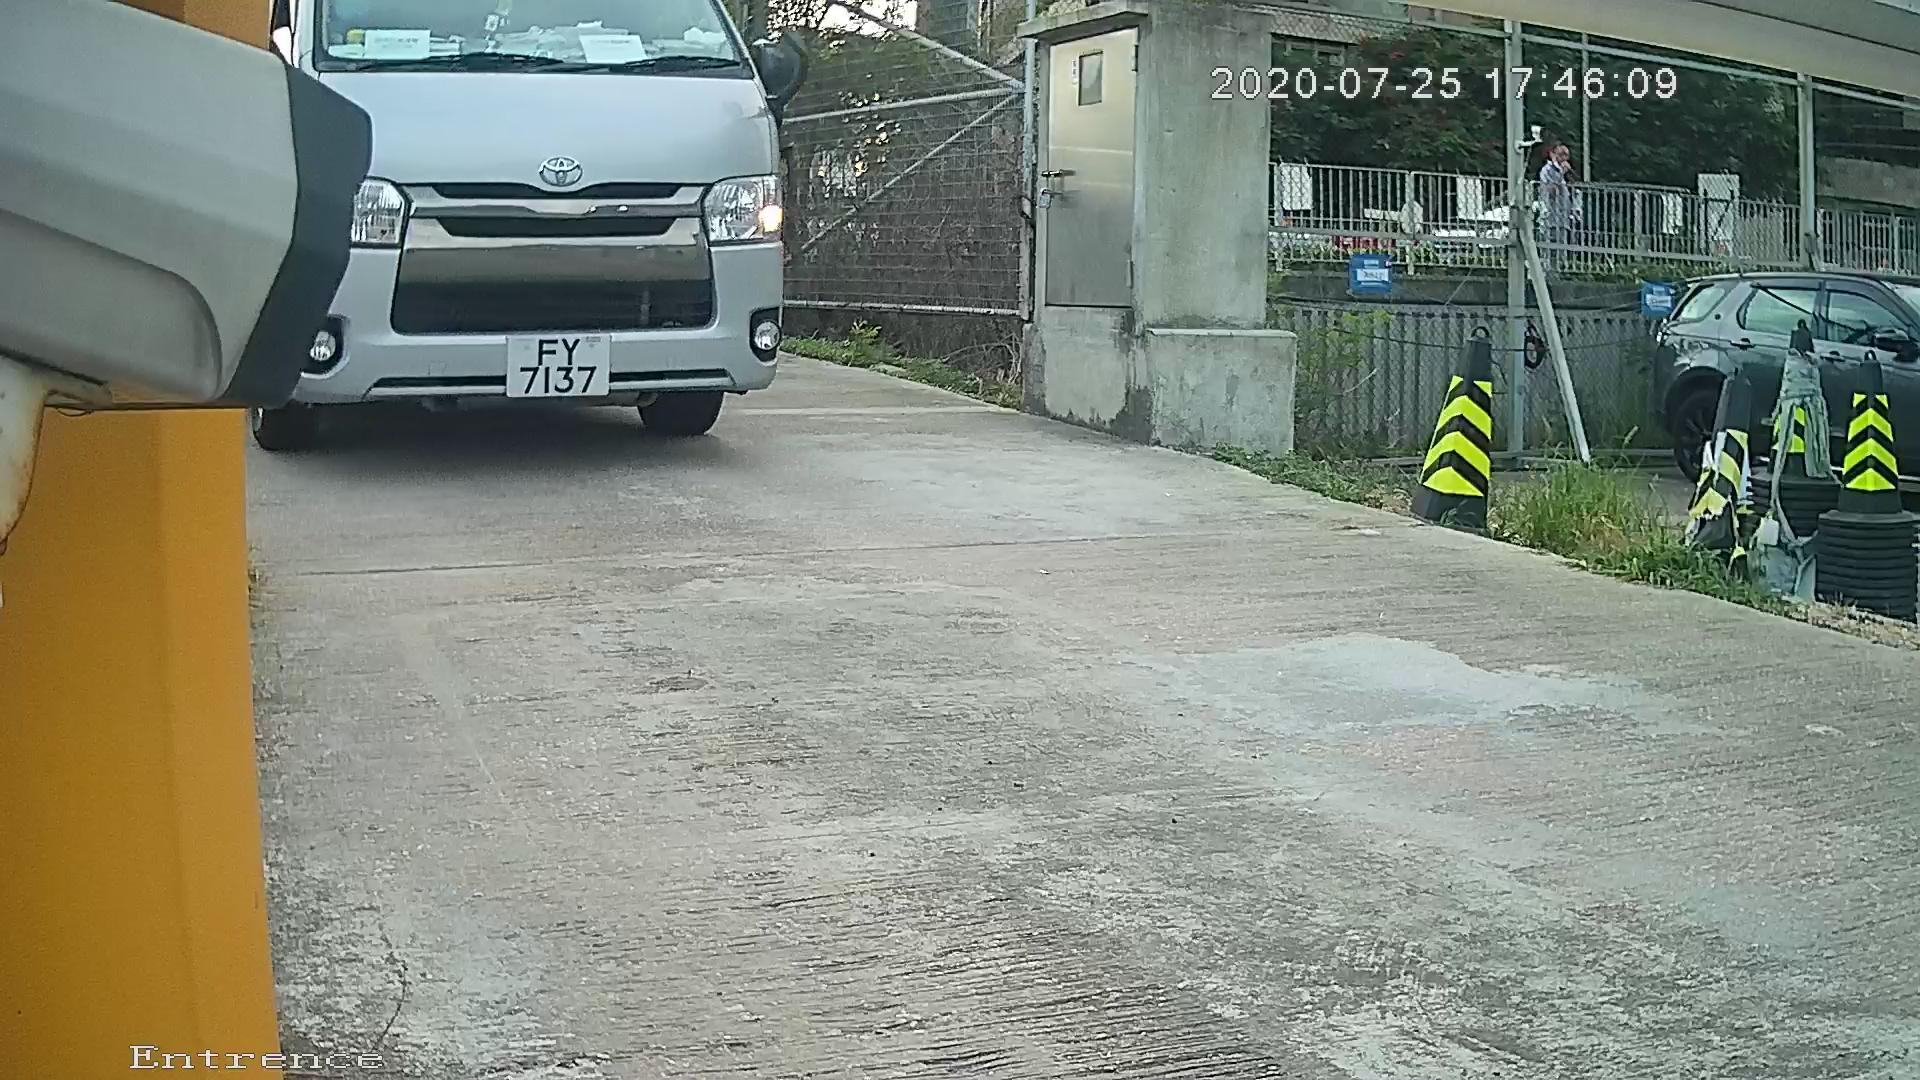Car: (163, 34, 866, 463)
License Plate: (474, 313, 644, 428)
